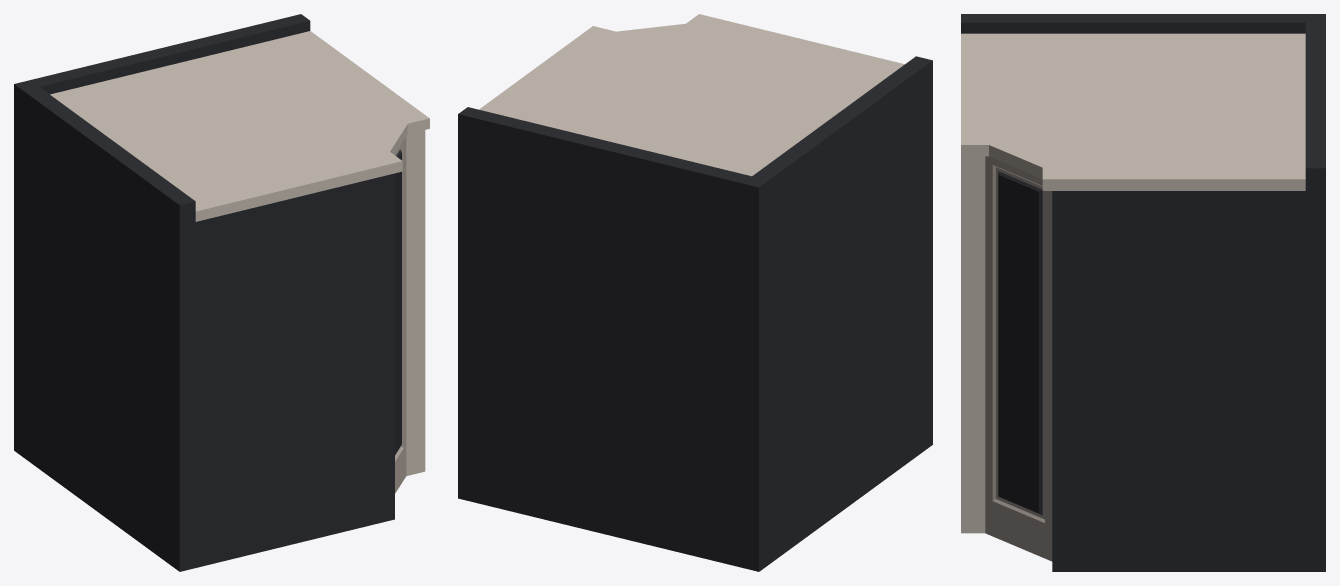
The model's file is SM_Floor_Locker_Corner.glb.
3 renders of one model, left to right at view 1: azimuth 30°, elevation 25°; view 2: azimuth 150°, elevation 25°; view 3: azimuth 270°, elevation 25°, orthographic. The views are drawn at different scales.
Parts seen in each view (by area): view 1: SM_Floor_Locker_Corner.001; view 2: SM_Floor_Locker_Corner.001; view 3: SM_Floor_Locker_Corner.001.
Boxes of the visible parts, bbox=[...] form: SM_Floor_Locker_Corner.001: bbox=[14, 14, 429, 571]; SM_Floor_Locker_Corner.001: bbox=[458, 14, 932, 571]; SM_Floor_Locker_Corner.001: bbox=[961, 14, 1325, 571].
Size of the model in its own units: 0.8006 by 0.9771 by 0.8003.
Materials: 1 (1 with a texture image).
